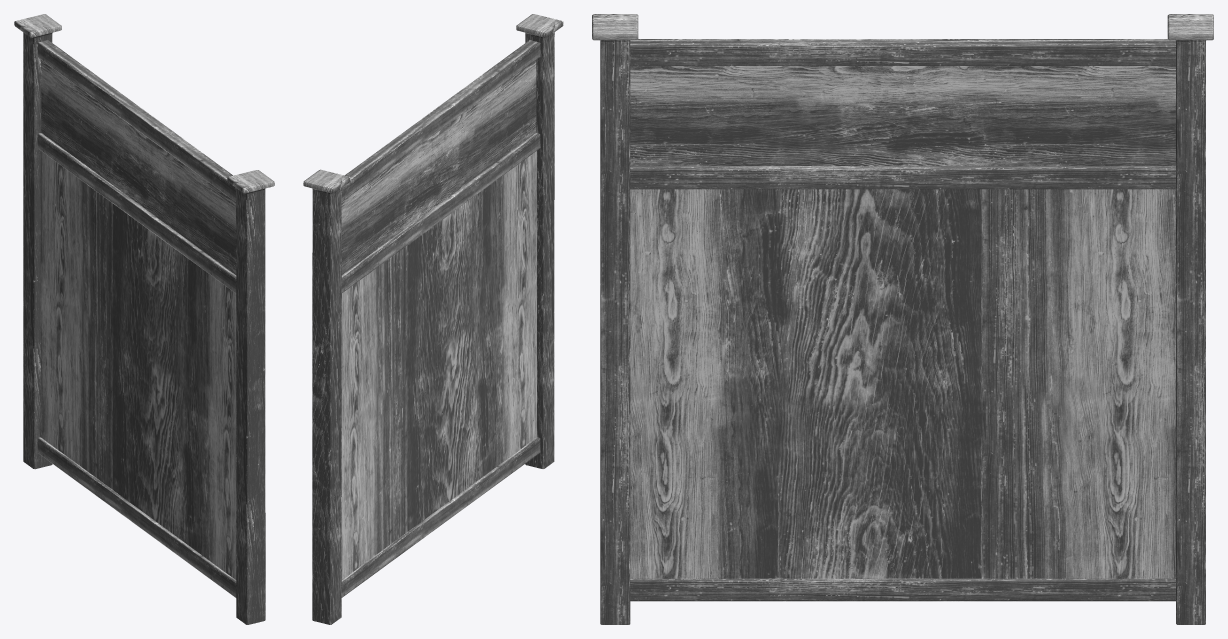
Rendered from SM_OutsideFence_B_End.fbx.
3 views of the same model, side by side, from view 1: azimuth 30°, elevation 25°; view 2: azimuth 150°, elevation 25°; view 3: azimuth 270°, elevation 25° (orthographic). The views are drawn at different scales.
Visible parts, largest first — view 1: SM_OutsideFence_B_End; view 2: SM_OutsideFence_B_End; view 3: SM_OutsideFence_B_End.
Boxes of the visible parts, <box> form: SM_OutsideFence_B_End: <box>14,14,274,624</box>; SM_OutsideFence_B_End: <box>303,14,563,624</box>; SM_OutsideFence_B_End: <box>592,14,1213,624</box>.
Bounding box in the file's own units: 17.2 × 218 × 230.
3 materials, 3 textured.
